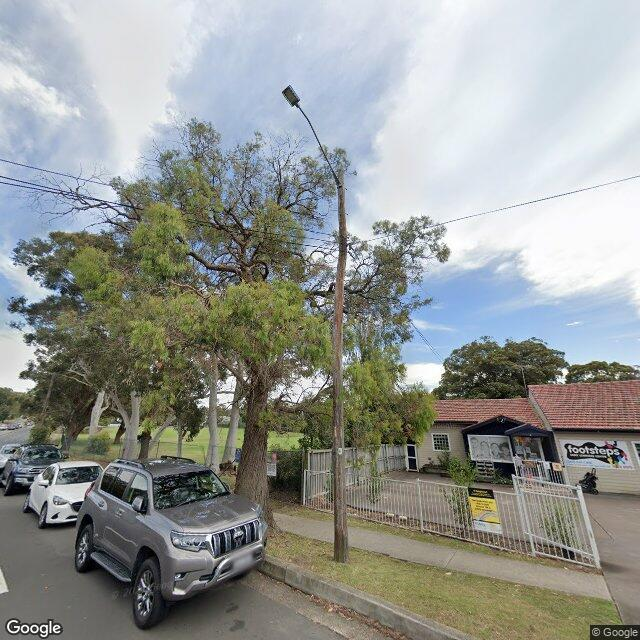streetlight: (282, 85, 342, 188)
timber-pole: (334, 186, 347, 564)
